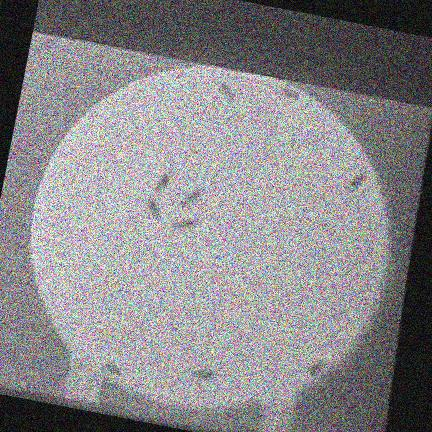fly: (346, 170, 368, 191), (180, 187, 203, 207), (155, 169, 172, 191), (305, 359, 327, 375), (147, 194, 161, 219), (171, 217, 197, 229), (277, 85, 299, 98), (190, 368, 215, 379), (104, 363, 126, 375), (222, 83, 235, 101)
